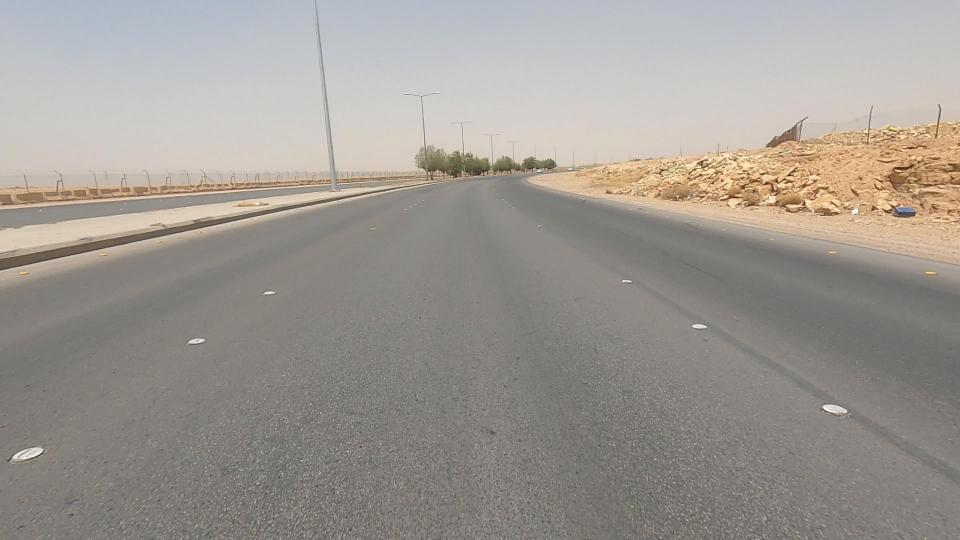GARBAGE: (804, 163, 959, 253)
